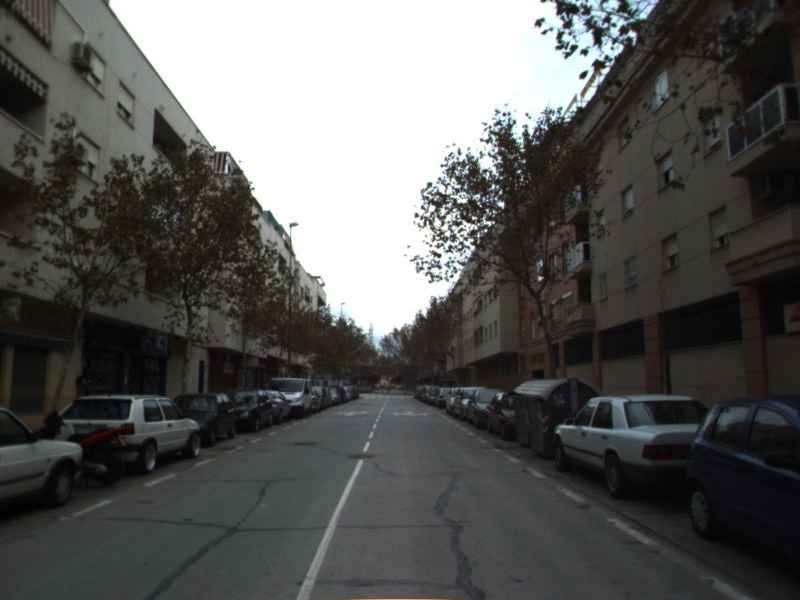STRAIGHT_LEFT_RIGHT: (389, 408, 432, 418)
